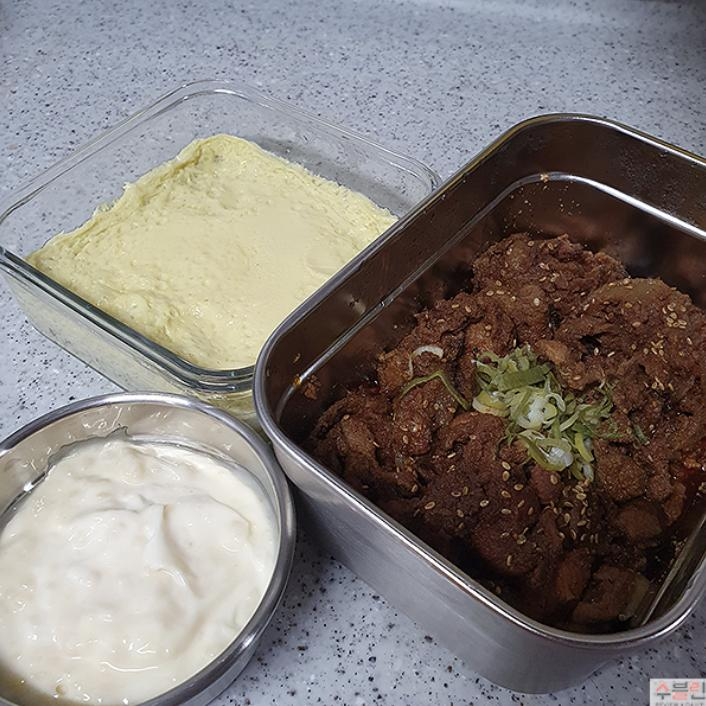Lunch Box: (255, 116, 705, 692), (0, 81, 438, 422), (0, 394, 295, 705)
